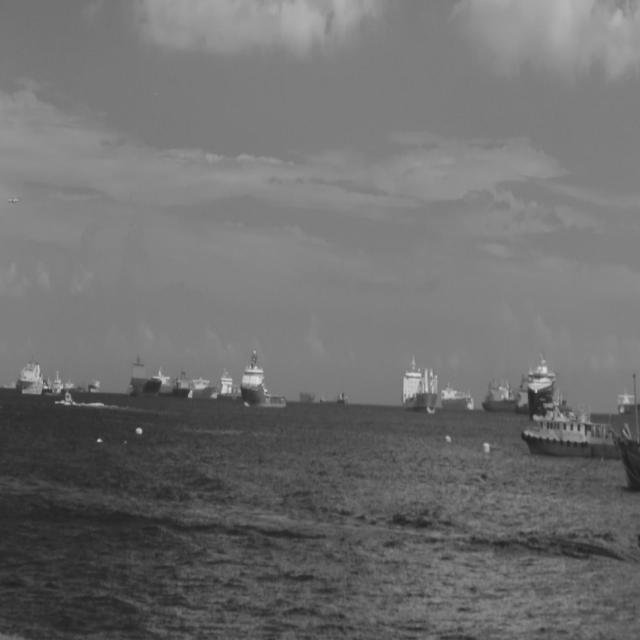buoy: (482, 440, 491, 454), (134, 425, 144, 436)
ship: (520, 386, 618, 460), (526, 348, 568, 420), (240, 345, 286, 408), (401, 353, 438, 414), (126, 354, 162, 398), (481, 371, 518, 412), (616, 430, 639, 492), (440, 381, 474, 411), (183, 372, 218, 400), (217, 363, 241, 401), (618, 386, 640, 416), (171, 368, 191, 396), (319, 392, 348, 407), (50, 368, 64, 396), (87, 376, 101, 393), (62, 389, 74, 406)
